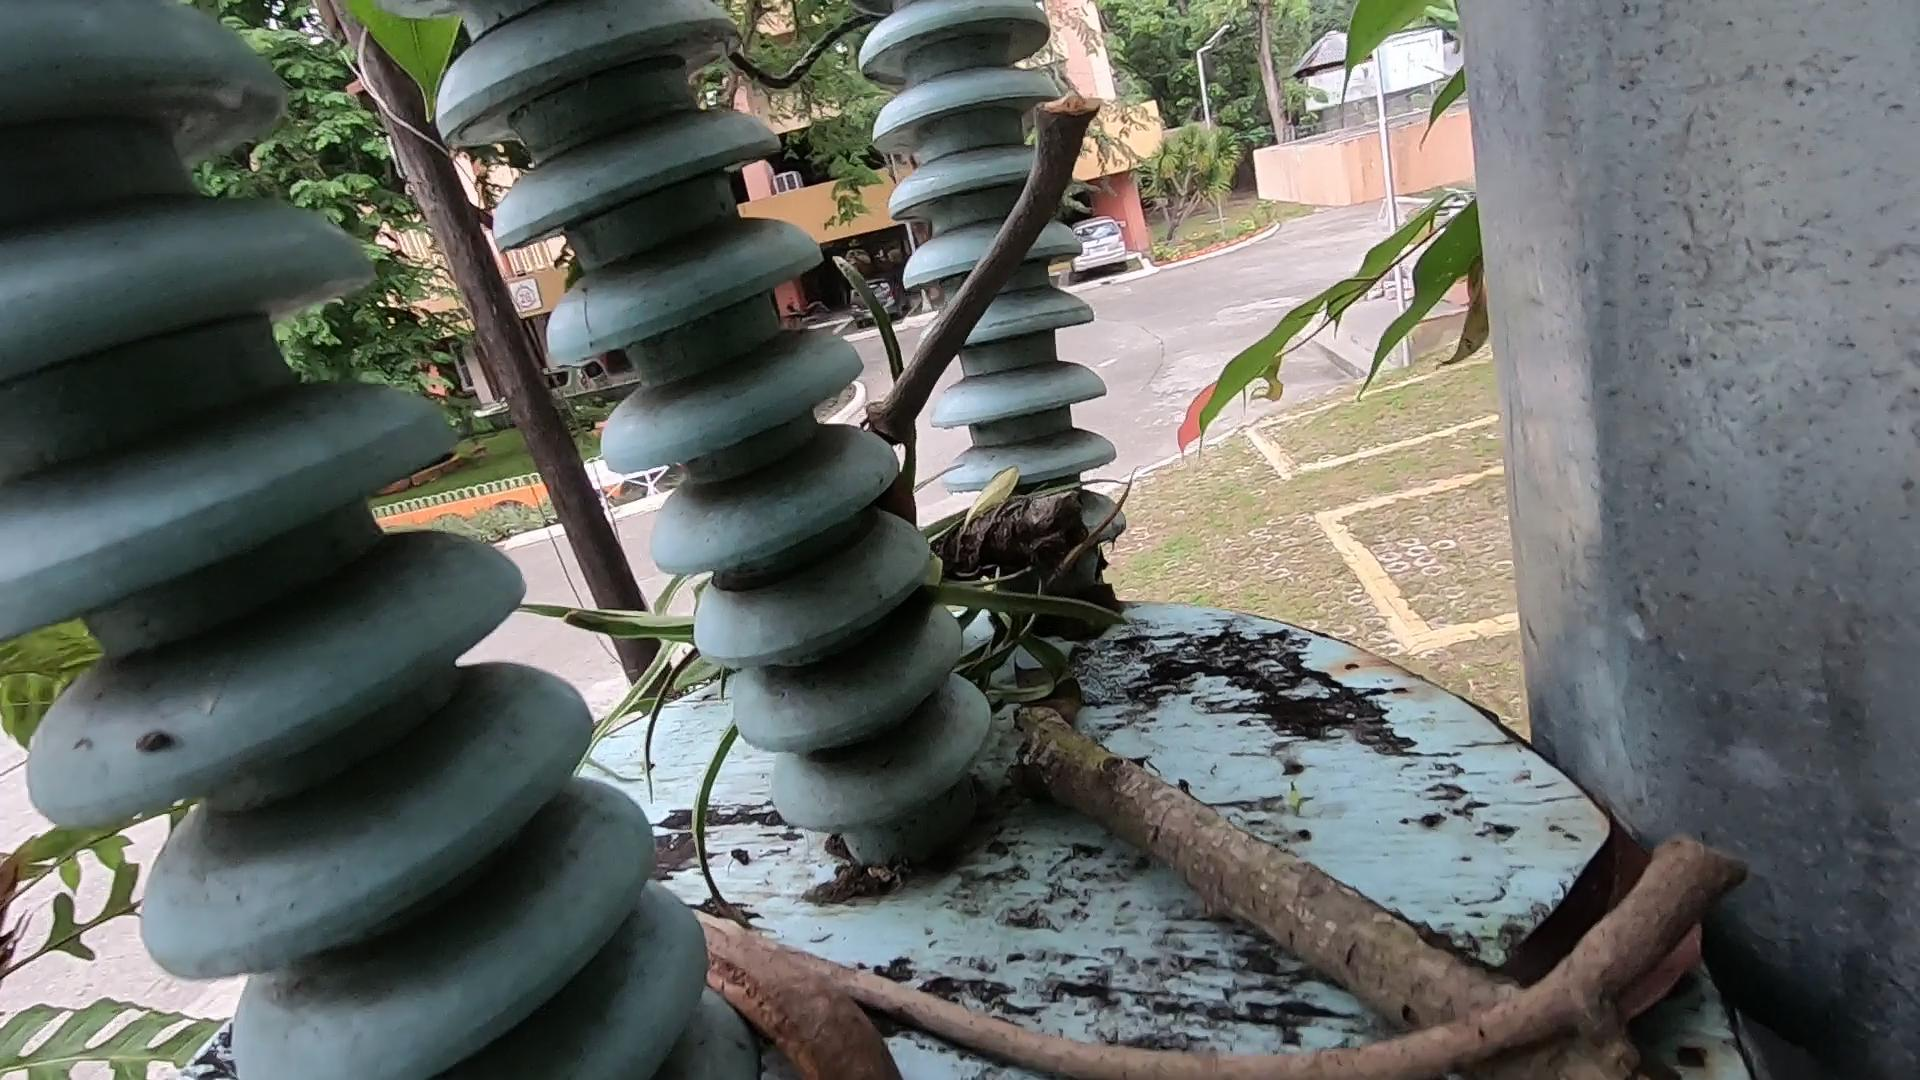branch with leaves: (771, 462, 1596, 1038)
mahogany fruit: (665, 898, 869, 1080)
tree branch: (717, 901, 1636, 1080), (829, 61, 1149, 502)
